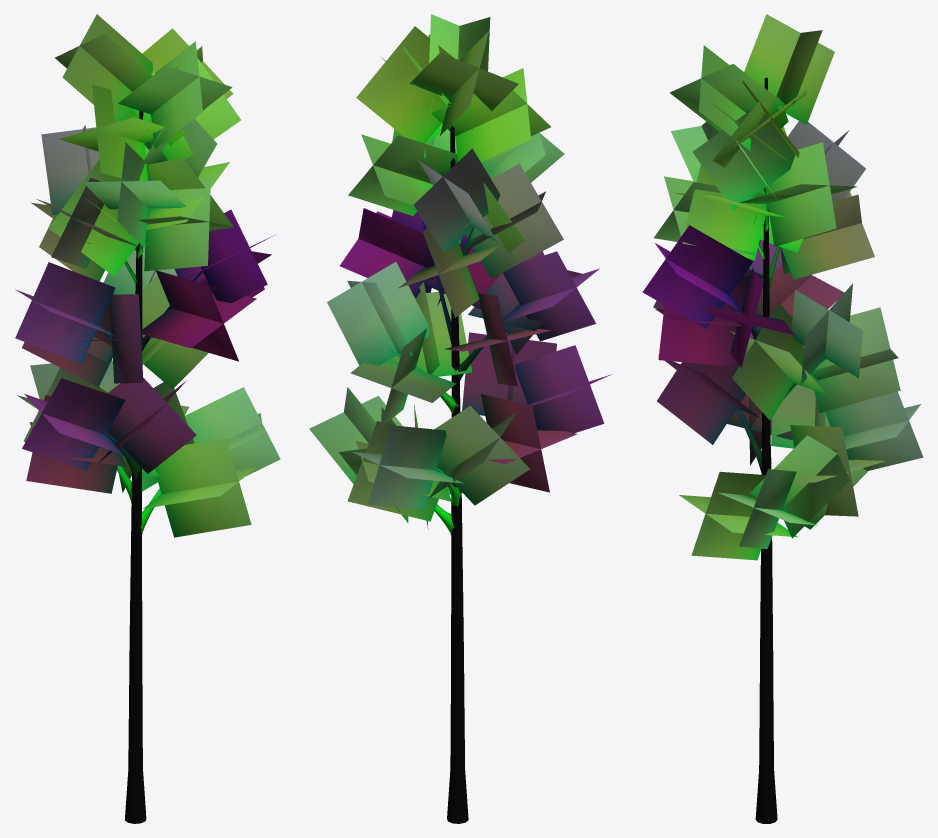
File: URP_P5_Tree_2_LOD_2.fbx
The picture shows the model from 3 angles, left to right: view 1: azimuth 30°, elevation 25°; view 2: azimuth 150°, elevation 25°; view 3: azimuth 270°, elevation 25°; orthographic projection.
Visible parts, largest first — view 1: Tree_2_LOD_2; view 2: Tree_2_LOD_2; view 3: Tree_2_LOD_2.
Boxes of the visible parts, left/top/right/bottom form: Tree_2_LOD_2: left=15, top=14, right=280, bottom=823; Tree_2_LOD_2: left=309, top=14, right=612, bottom=823; Tree_2_LOD_2: left=642, top=14, right=923, bottom=823.
Bounding box in the file's own units: 291 × 829 × 267.
